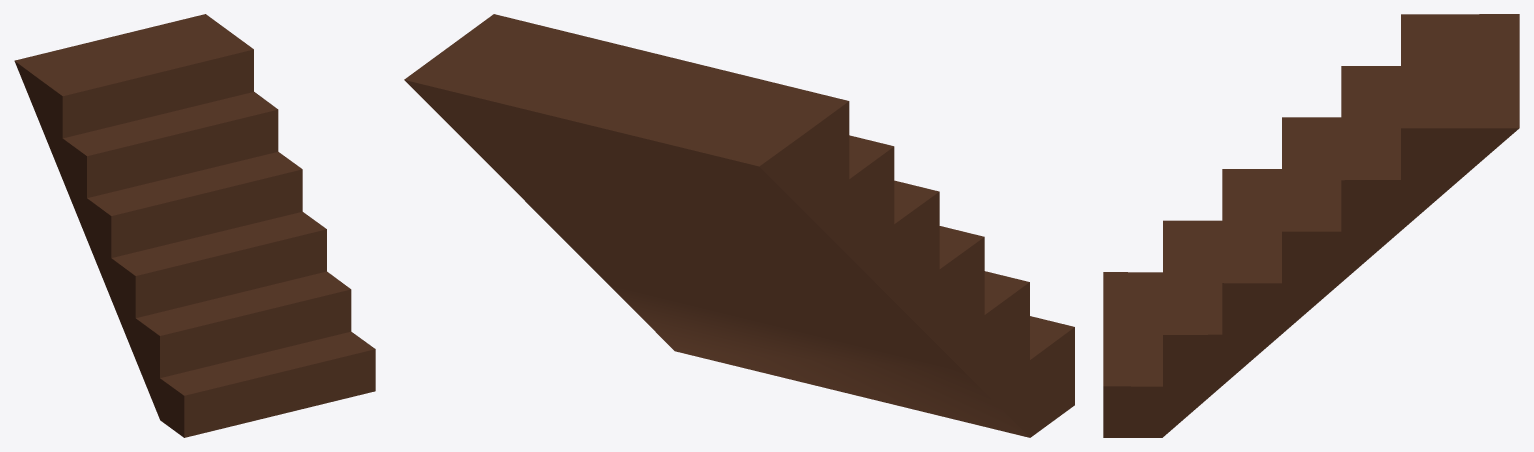
3 views of the same model, side by side, from view 1: azimuth 30°, elevation 25°; view 2: azimuth 150°, elevation 25°; view 3: azimuth 270°, elevation 25° (orthographic). The views are drawn at different scales.
Parts seen in each view (by area): view 1: BaseStairs.010; view 2: BaseStairs.010; view 3: BaseStairs.010.
Boxes of the visible parts, <box> form: BaseStairs.010: <box>14,14,375,437</box>; BaseStairs.010: <box>404,14,1074,437</box>; BaseStairs.010: <box>1103,14,1519,437</box>.
Size of what is drawn, in the model's own units: 1.36 by 1.71 by 2.09.
1 material, 1 textured.
